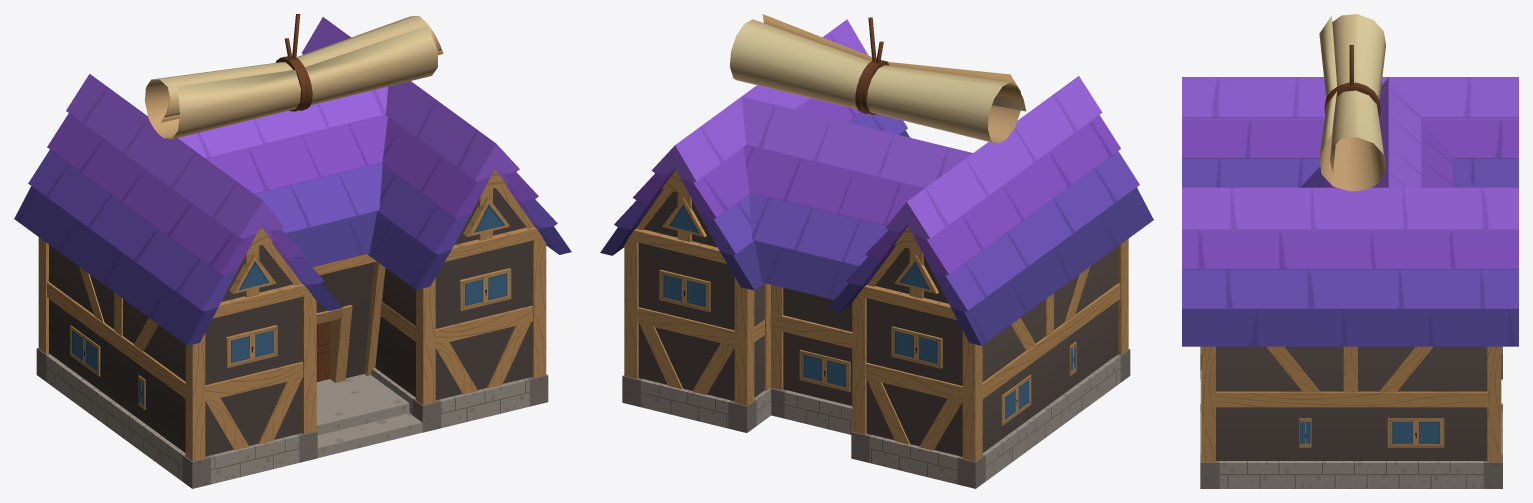
File: building_spell_lv4.FBX
3 views of the same model, side by side, from view 1: azimuth 30°, elevation 25°; view 2: azimuth 150°, elevation 25°; view 3: azimuth 270°, elevation 25° (orthographic). The views are drawn at different scales.
Parts seen in each view (by area): view 1: building_spell_roof_lv4, building_spell_lv4, building_spell_under_lv4, building_spell_etc01_lv4; view 2: building_spell_roof_lv4, building_spell_lv4, building_spell_etc01_lv4, building_spell_under_lv4; view 3: building_spell_roof_lv4, building_spell_lv4, building_spell_etc01_lv4, building_spell_under_lv4.
Boxes of the visible parts, box(x1,y1,x2,y2) form: building_spell_roof_lv4: box(14, 17, 571, 345); building_spell_lv4: box(38, 169, 546, 461); building_spell_under_lv4: box(36, 348, 548, 488); building_spell_etc01_lv4: box(144, 14, 443, 139); building_spell_roof_lv4: box(600, 19, 1153, 345); building_spell_lv4: box(624, 170, 1128, 461); building_spell_etc01_lv4: box(730, 14, 1026, 143); building_spell_under_lv4: box(622, 349, 1130, 488); building_spell_roof_lv4: box(1182, 77, 1518, 346); building_spell_lv4: box(1201, 346, 1501, 462); building_spell_etc01_lv4: box(1319, 14, 1385, 191); building_spell_under_lv4: box(1200, 346, 1502, 488).
Size of the model in its own units: 608 by 563 by 475.
